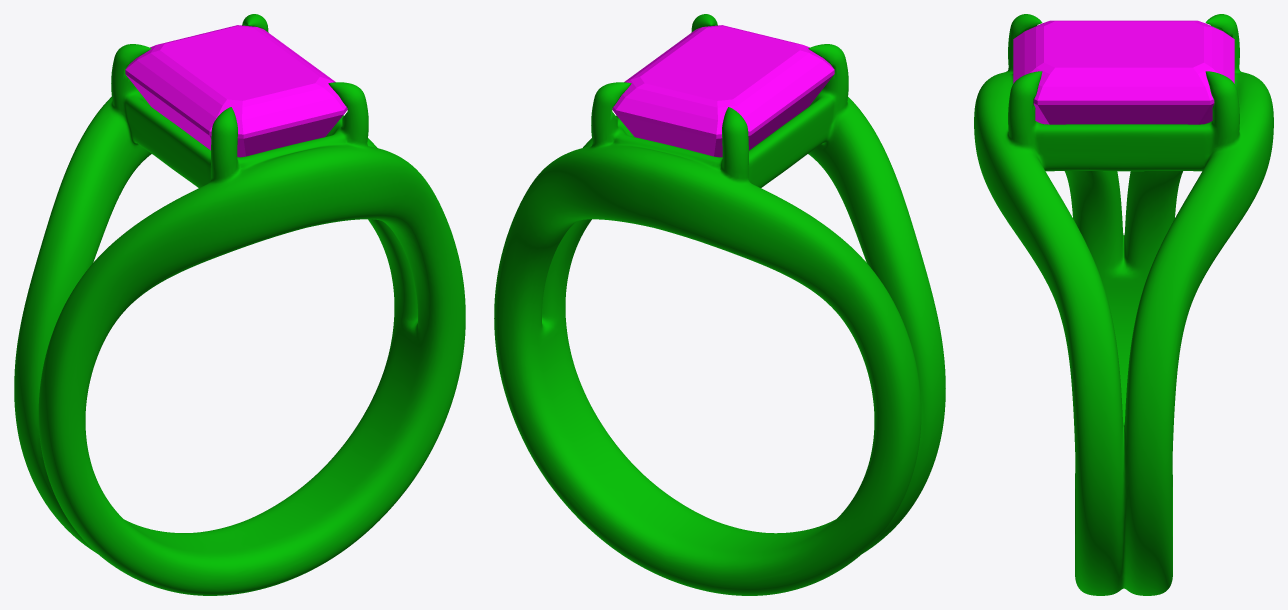
Rendered from BE1732_EM_200ct_RENDER.glb.
3 views of the same model, side by side, from view 1: azimuth 30°, elevation 25°; view 2: azimuth 150°, elevation 25°; view 3: azimuth 270°, elevation 25° (orthographic). The views are drawn at different scales.
Parts seen in each view (by area): view 1: Metal 01, CS_Diamond_Emerald; view 2: Metal 01, CS_Diamond_Emerald; view 3: Metal 01, CS_Diamond_Emerald.
Boxes of the visible parts, bbox=[...] form: Metal 01: bbox=[14, 14, 465, 595]; CS_Diamond_Emerald: bbox=[125, 25, 347, 157]; Metal 01: bbox=[494, 14, 945, 595]; CS_Diamond_Emerald: bbox=[612, 25, 834, 157]; Metal 01: bbox=[974, 14, 1273, 595]; CS_Diamond_Emerald: bbox=[1013, 20, 1234, 124].
Bounding box in the file's own units: 20.1 × 23.72 × 12.2.
